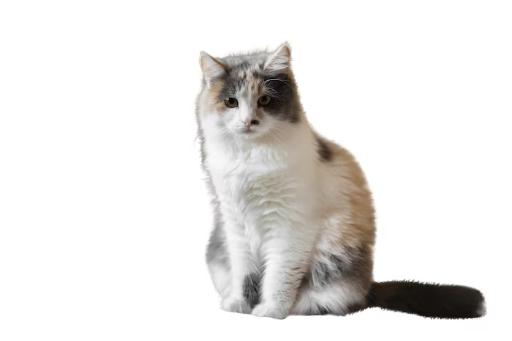cat_sitting: (196, 44, 484, 318)
